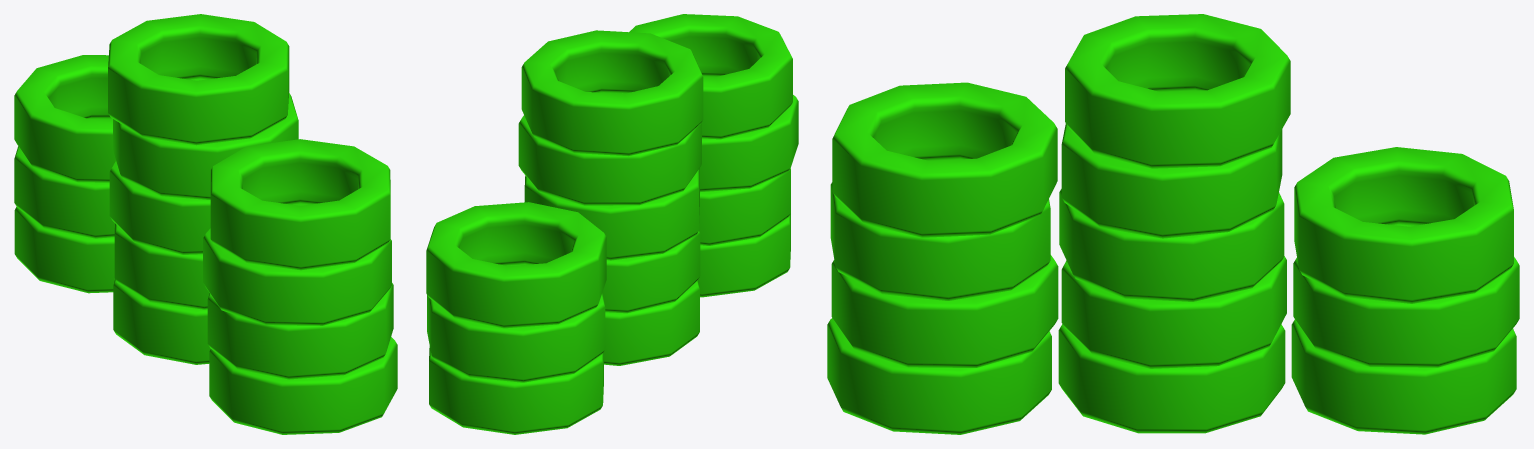
File: Tire_Pile_03_Lod1.fbx
3 renders of one model, left to right at view 1: azimuth 30°, elevation 25°; view 2: azimuth 150°, elevation 25°; view 3: azimuth 270°, elevation 25°, orthographic. The views are drawn at different scales.
Parts seen in each view (by area): view 1: Tire_Pile_03_Lod1; view 2: Tire_Pile_03_Lod1; view 3: Tire_Pile_03_Lod1.
Boxes of the visible parts, bbox=[...] form: Tire_Pile_03_Lod1: bbox=[14, 14, 397, 434]; Tire_Pile_03_Lod1: bbox=[426, 14, 798, 434]; Tire_Pile_03_Lod1: bbox=[827, 14, 1519, 434].
Bounding box in the file's own units: 79.52 × 123 × 237.
